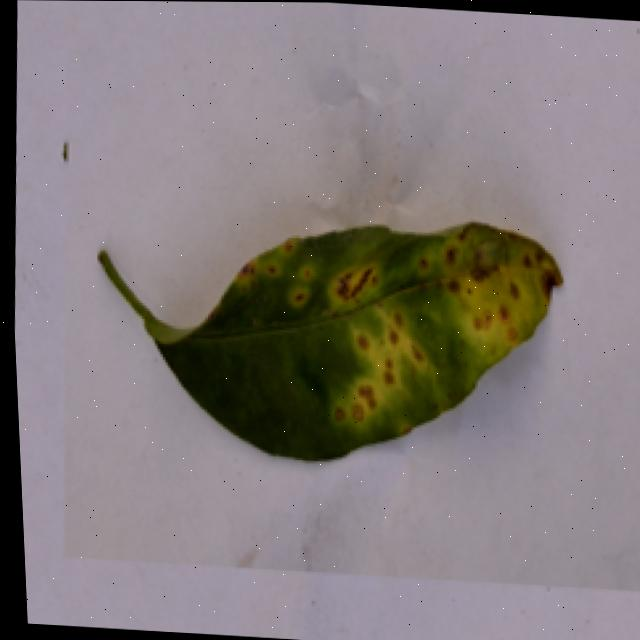canker: (134, 222, 562, 459), (427, 196, 572, 392), (314, 246, 437, 448), (221, 214, 328, 338)
